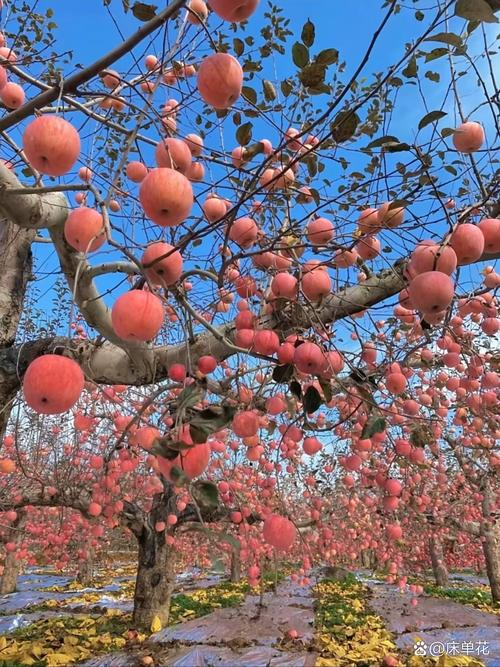ripe: (12, 354, 88, 413), (15, 112, 82, 177), (151, 419, 214, 478), (187, 48, 245, 112), (138, 165, 192, 225), (109, 289, 162, 337), (61, 204, 116, 250), (140, 237, 185, 286), (407, 269, 459, 311), (291, 327, 323, 376), (262, 507, 296, 553), (299, 264, 333, 296)
unripe: (446, 112, 492, 155)
